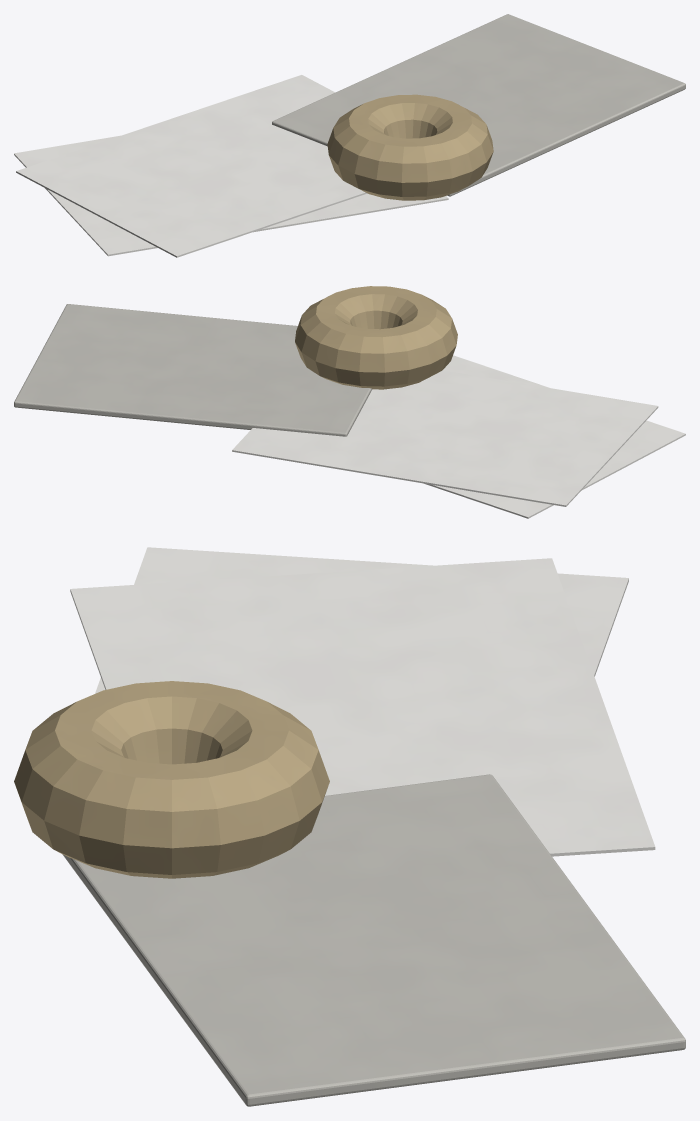
File: PRP_DrawerClutter.fbx
3 renders of one model, top to bottom at view 1: azimuth 30°, elevation 25°; view 2: azimuth 150°, elevation 25°; view 3: azimuth 270°, elevation 25°, orthographic. The views are drawn at different scales.
Parts seen in each view (by area): view 1: Clutter_Paper_2, Clutter_Newspaper, Clutter_Tape, Clutter_Paper_1; view 2: Clutter_Newspaper, Clutter_Paper_2, Clutter_Tape, Clutter_Paper_1; view 3: Clutter_Newspaper, Clutter_Paper_2, Clutter_Tape, Clutter_Paper_1.
Part boxes in pixels (x1,y1,x2,y2): Clutter_Paper_2: [16, 75, 367, 257]; Clutter_Newspaper: [272, 14, 685, 196]; Clutter_Tape: [327, 94, 493, 200]; Clutter_Paper_1: [14, 135, 448, 256]; Clutter_Newspaper: [14, 304, 372, 436]; Clutter_Paper_2: [232, 370, 658, 506]; Clutter_Tape: [295, 286, 457, 389]; Clutter_Paper_1: [424, 355, 685, 518]; Clutter_Newspaper: [62, 774, 685, 1106]; Clutter_Paper_2: [70, 558, 655, 856]; Clutter_Tape: [14, 681, 329, 878]; Clutter_Paper_1: [95, 547, 628, 693].
Bounding box in the file's own units: 40.08 × 3.51 × 20.42.
